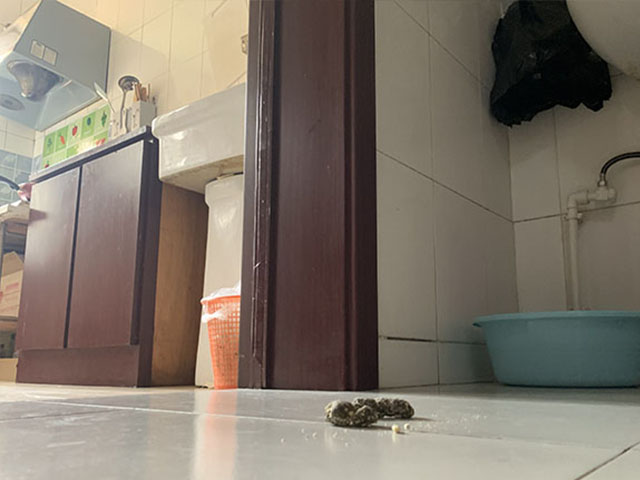cabinet: (13, 125, 153, 389)
feces: (323, 395, 415, 429)
trashcan: (199, 285, 242, 389)
